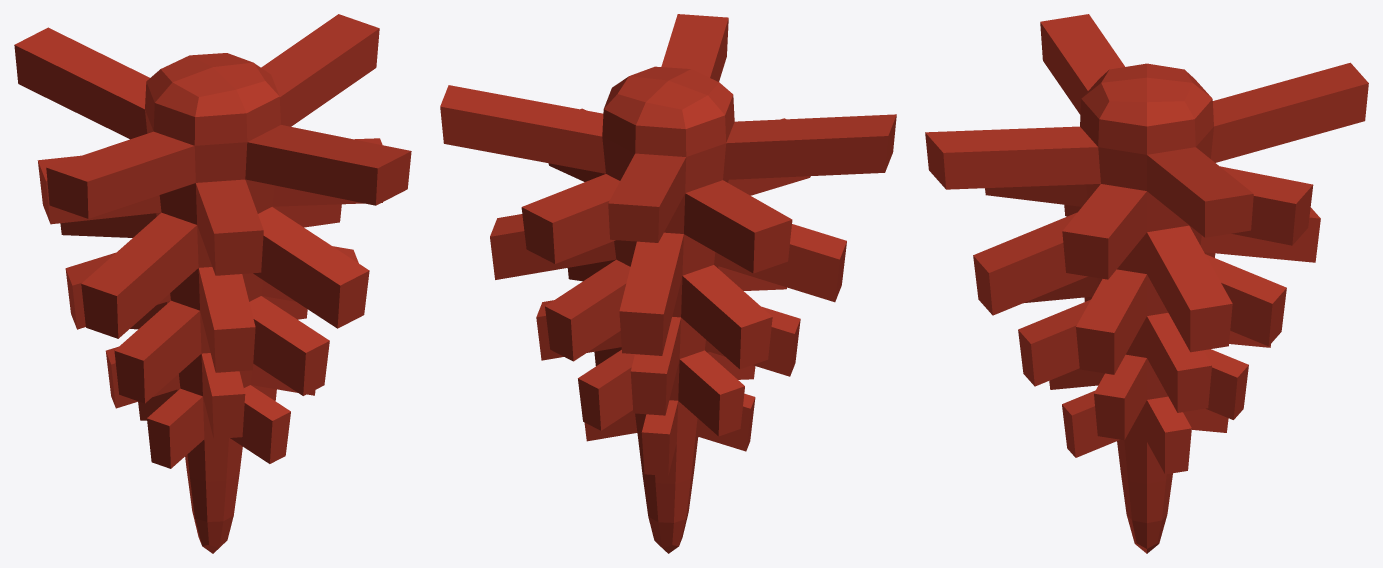
The model's file is pinias_model.fbx.
3 renders of one model, left to right at view 1: azimuth 30°, elevation 25°; view 2: azimuth 150°, elevation 25°; view 3: azimuth 270°, elevation 25°, orthographic. The views are drawn at different scales.
Visible parts, largest first — view 1: Cube; view 2: Cube; view 3: Cube.
Part boxes in pixels (box(x1,y1,x2,y2)): Cube: box(14, 14, 411, 553); Cube: box(440, 14, 896, 553); Cube: box(925, 14, 1368, 553).
Bounding box in the file's own units: 591 × 700 × 591.
